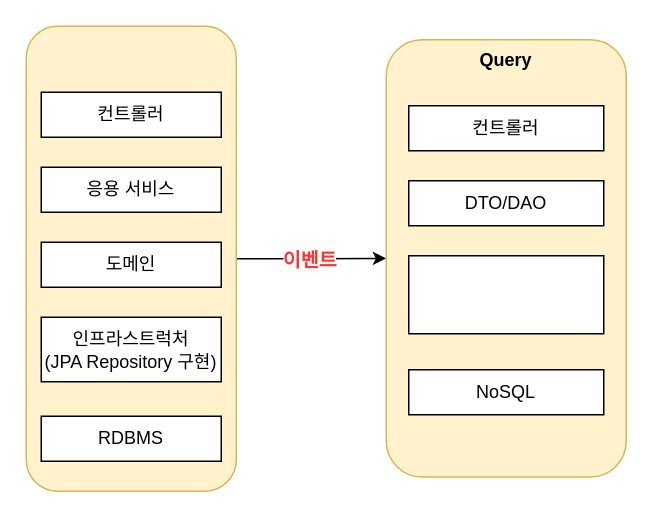
This 653x518 diagram has some shape labels left out. The shapes that lost their labels are listed below. From the top down, each one's box as (x1, y1, x2, y2) in pixels, then its label:
(25, 25, 236, 491): Command
(407, 254, 604, 334): 인프라 (MyBatis 로 DAO 구현)
